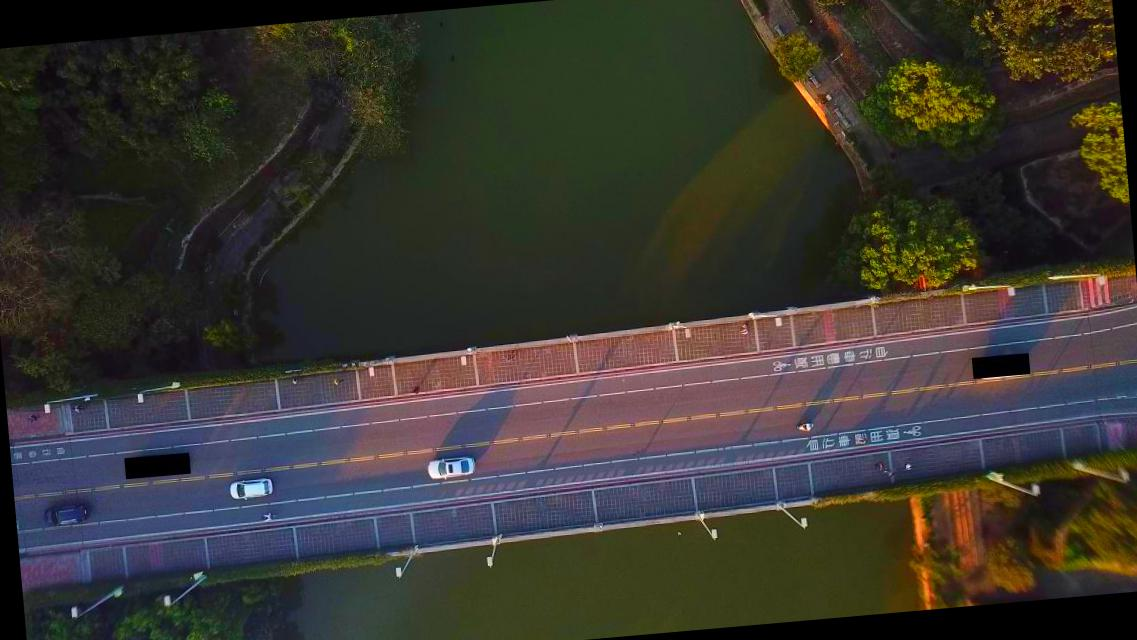vehicle: (426, 455, 475, 482), (228, 476, 272, 502), (43, 502, 88, 526)
